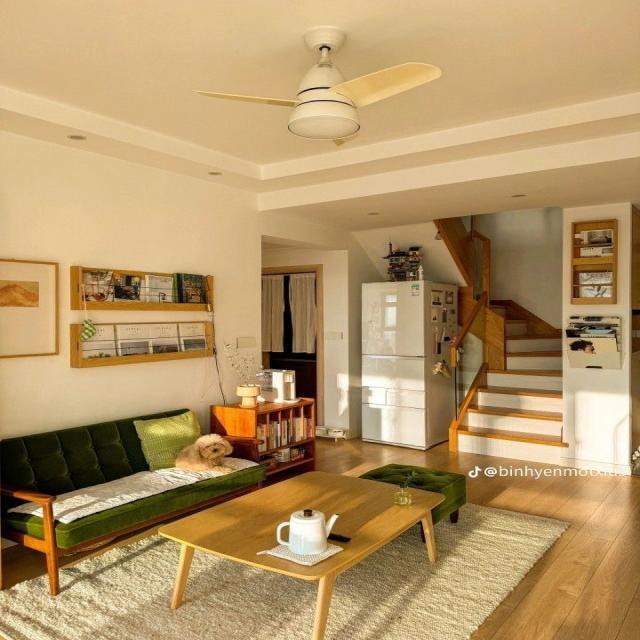obstacle: (0, 406, 267, 596), (157, 469, 446, 639), (360, 279, 460, 451), (208, 398, 316, 486)
